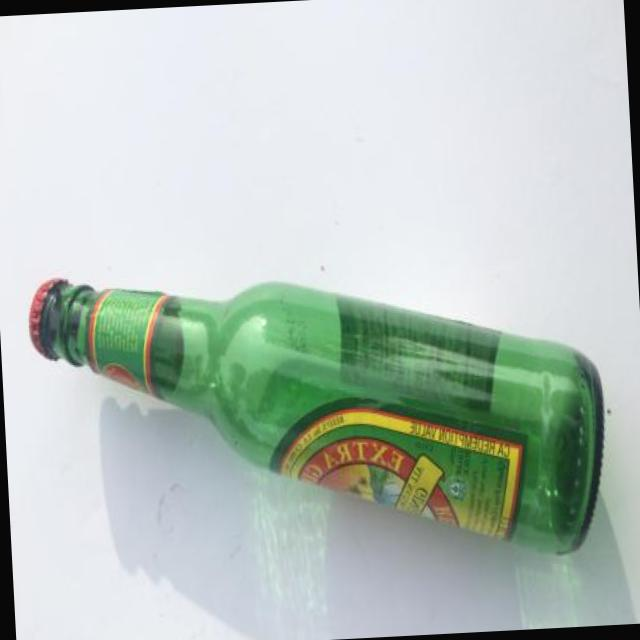chai_thuy_tinh: (29, 280, 605, 553)
